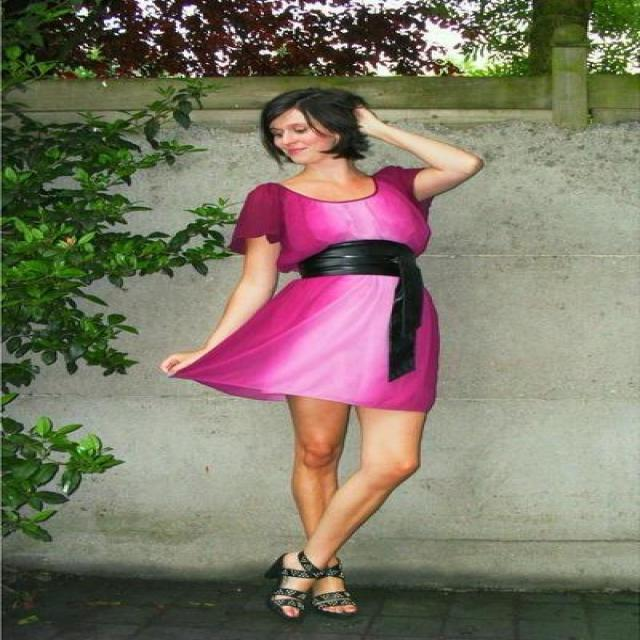dress: (173, 166, 446, 422)
shoe: (288, 536, 368, 614)
